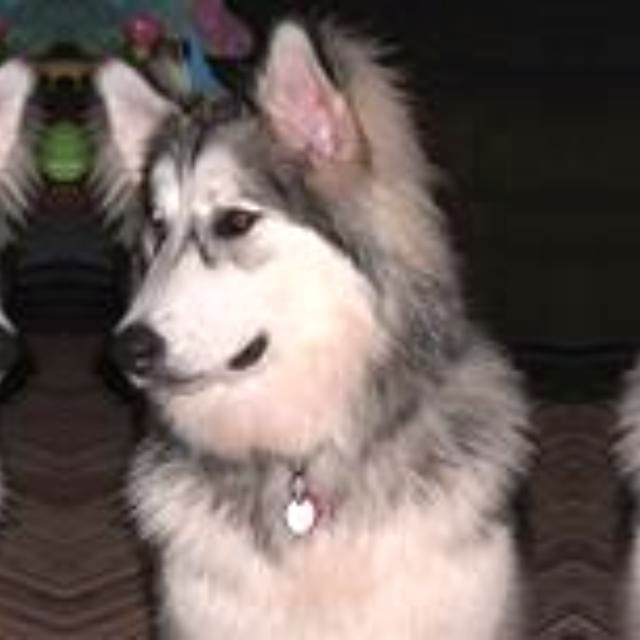dog: (66, 44, 534, 640), (0, 44, 65, 640), (616, 44, 640, 640)
